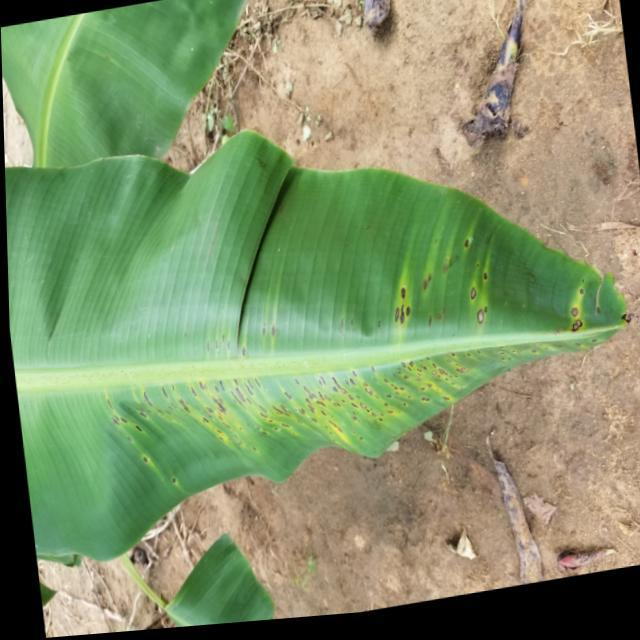Early_rust: (97, 346, 553, 484), (373, 207, 640, 341)
